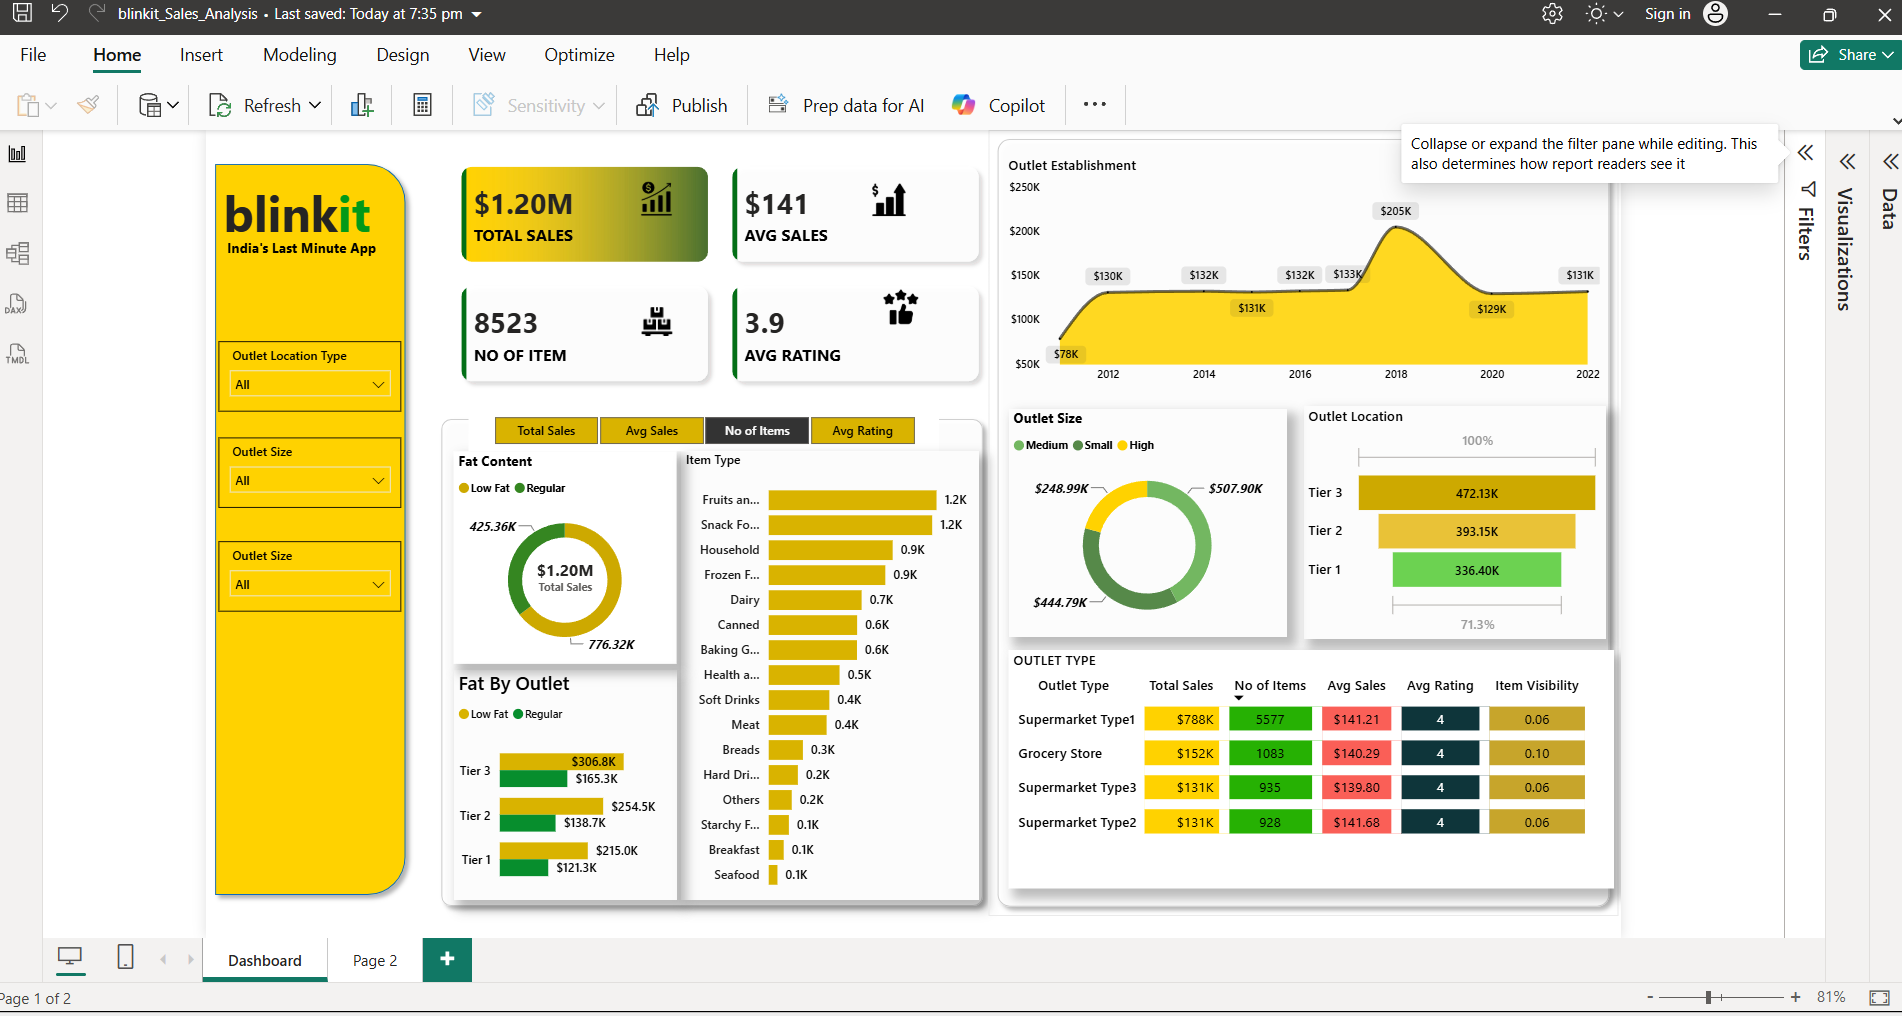

Layout of this report page (visuals, bound fields, positions):
{"tool":"powerbi","page":{"name":"Dashboard","canvas":[1400,800],"ordinal":0},"visuals":[{"type":"shape","box":[0,24.1,206.4,741.3],"z":0},{"type":"textbox","box":[12.1,44.2,210.5,116.6],"z":1000},{"type":"textbox","box":[16.1,103.2,207.8,57.6],"z":2000},{"type":"cardVisual","fields":{"Data":["BlinkIT Grocery Data.Total Sales","BlinkIT Grocery Data.Avg Sales","BlinkIT Grocery Data.No of Items","BlinkIT Grocery Data.Avg Rating"]},"box":[223.6,7.5,570.3,270.2],"z":3000},{"type":"image","box":[421.7,51,48,34.5],"z":4000},{"type":"image","box":[651.4,52.5,48,34.5],"z":5000},{"type":"image","box":[423.2,174.1,46.5,30],"z":6000},{"type":"image","box":[670.9,145.6,34.5,58.5],"z":7000},{"type":"shape","box":[223.6,277.7,553.8,499.8],"z":8000},{"type":"donutChart","title":" Fat Content","fields":{"Category":["BlinkIT Grocery Data.Item Fat Content"],"Y":["Sum(BlinkIT Grocery Data.Sales)"]},"box":[244.6,318.2,220.6,210.1],"z":9000},{"type":"cardVisual","fields":{"Data":["BlinkIT Grocery Data.Total Sales"]},"box":[281.5,388.7,147.5,105.9],"z":10000},{"type":"slicer","fields":{"Values":["metrics.metrics"]},"box":[259.6,277.7,465.3,40.5],"z":11000},{"type":"clusteredBarChart","title":"Fat By Outlet","fields":{"Category":["BlinkIT Grocery Data.Outlet Location Type"],"Series":["BlinkIT Grocery Data.Item Fat Content"],"Y":["BlinkIT Grocery Data.No of Items"]},"box":[244.6,534.3,220.6,228.1],"z":12000},{"type":"shape","box":[222.5,505.4,264.1,29.5],"z":13000},{"type":"shape","box":[445.8,304.7,18,495.3],"z":14000},{"type":"barChart","title":" Item Type","fields":{"Category":["BlinkIT Grocery Data.Item Type"],"Y":["BlinkIT Grocery Data.No of Items"]},"box":[469.8,318.2,294.2,444.3],"z":15000},{"type":"shape","box":[774.8,0,623.3,777.5],"z":16000},{"type":"lineChart","title":"Outlet Establishment","fields":{"Category":["BlinkIT Grocery Data.Outlet Establishment Year"],"Y":["BlinkIT Grocery Data.Total Sales"]},"box":[789.5,24.1,595.2,234.6],"z":17000},{"type":"shape","box":[454.4,292.2,17.4,496],"z":18000},{"type":"shape","box":[232.5,515.4,264.1,29.5],"z":19000},{"type":"donutChart","title":"Outlet Size","fields":{"Category":["BlinkIT Grocery Data.Outlet Size"],"Y":["BlinkIT Grocery Data.Total Sales"]},"box":[793.6,276.1,274.8,225.2],"z":20000},{"type":"funnel","title":" Outlet Location ","fields":{"Category":["BlinkIT Grocery Data.Outlet Location Type"],"Y":["Sum(BlinkIT Grocery Data.Sales)"]},"box":[1085.8,273.5,298.9,230],"z":21000},{"type":"pivotTable","title":"OUTLET TYPE","fields":{"Rows":["BlinkIT Grocery Data.Outlet Type"],"Values":["BlinkIT Grocery Data.Total Sales","BlinkIT Grocery Data.No of Items","BlinkIT Grocery Data.Avg Sales","BlinkIT Grocery Data.Avg Rating","Avg(BlinkIT Grocery Data.Item Visibility)"]},"box":[793.6,514.7,599.2,235.9],"z":22000},{"type":"slicer","fields":{"Values":["BlinkIT Grocery Data.Outlet Location Type"]},"box":[12.1,209.1,181,69.7],"z":23000},{"type":"slicer","fields":{"Values":["BlinkIT Grocery Data.Outlet Size"]},"box":[12.1,304.3,181,69.7],"z":24000},{"type":"slicer","fields":{"Values":["BlinkIT Grocery Data.Outlet Size"]},"box":[12.1,407.5,181,69.7],"z":25000}]}

Visuals, with their boxes on the page's 1400x800 design canvas (x1, y1, x2, y2). These are canvas units, not pixel positions in the 1902x1016 screenshot, which may show the page scaled, cropped or inside an application window:
shape: (0, 24, 206, 765)
textbox: (12, 44, 223, 161)
textbox: (16, 103, 224, 161)
cardVisual - BlinkIT Grocery Data.Total Sales x BlinkIT Grocery Data.Avg Sales: (224, 8, 794, 278)
image: (422, 51, 470, 86)
image: (651, 52, 699, 87)
image: (423, 174, 470, 204)
image: (671, 146, 705, 204)
shape: (224, 278, 777, 778)
" Fat Content" donutChart: (245, 318, 465, 528)
cardVisual - BlinkIT Grocery Data.Total Sales: (282, 389, 429, 495)
slicer - metrics.metrics: (260, 278, 725, 318)
"Fat By Outlet" clusteredBarChart: (245, 534, 465, 762)
shape: (222, 505, 487, 535)
shape: (446, 305, 464, 800)
" Item Type" barChart: (470, 318, 764, 762)
shape: (775, 0, 1398, 778)
"Outlet Establishment" lineChart: (790, 24, 1385, 259)
shape: (454, 292, 472, 788)
shape: (232, 515, 497, 545)
"Outlet Size" donutChart: (794, 276, 1068, 501)
" Outlet Location " funnel: (1086, 274, 1385, 504)
"OUTLET TYPE" pivotTable: (794, 515, 1393, 751)
slicer - BlinkIT Grocery Data.Outlet Location Type: (12, 209, 193, 279)
slicer - BlinkIT Grocery Data.Outlet Size: (12, 304, 193, 374)
slicer - BlinkIT Grocery Data.Outlet Size: (12, 408, 193, 477)
